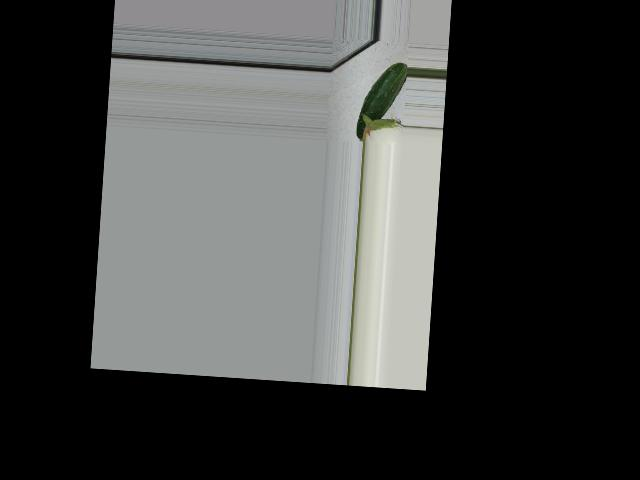cucumber: (356, 59, 408, 143)
